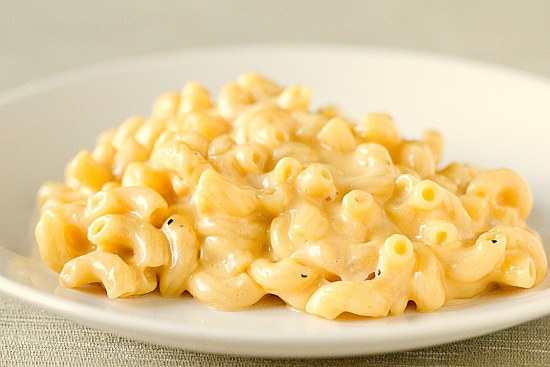macncheese: (27, 43, 550, 348)
